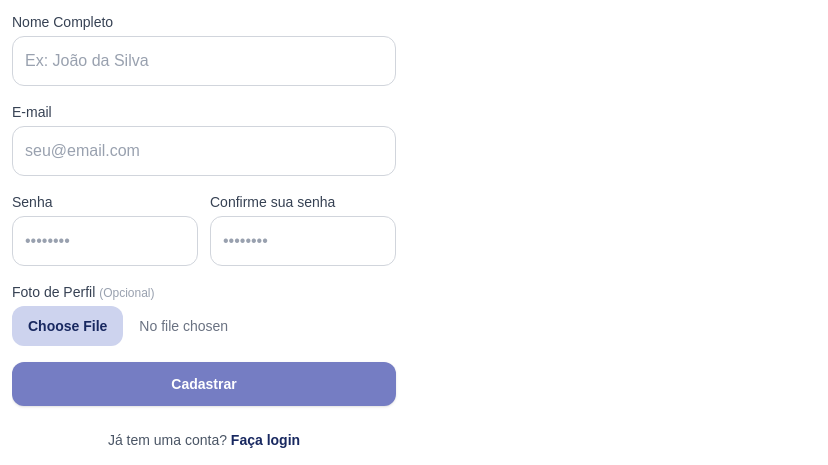
Test: [US01] RegisterAuth Integration › [QA] Deve reabilitar o formulário e permitir nova tentativa quando a API retornar erro de validação
The image size is (828, 465).
Type "Marcos" into the field labelled "Nome Completo" at (204, 61), box [12,36,396,86]
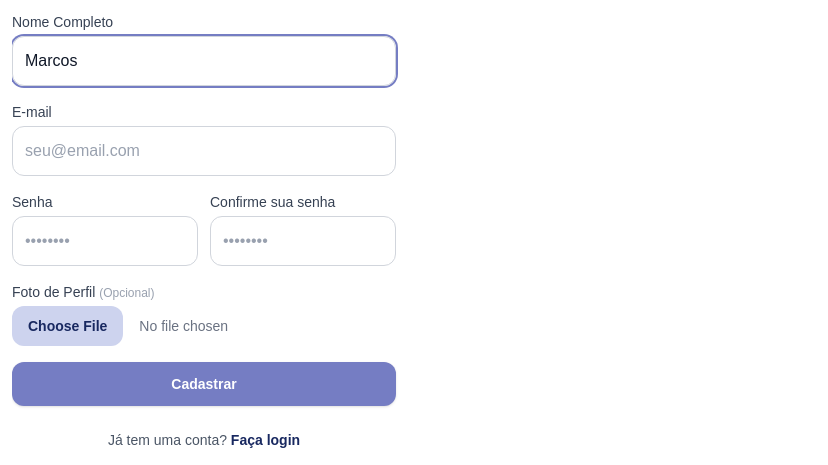
Type "duplicado@uefs.br" into the field labelled "E-mail" at (204, 151), box [12,126,396,176]
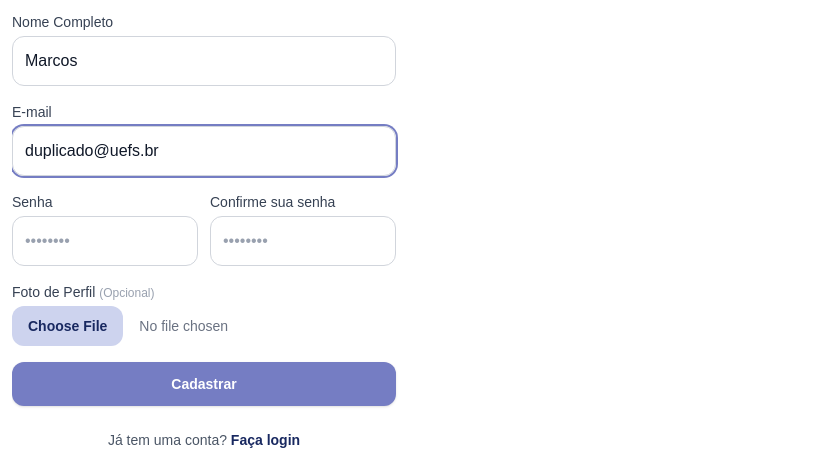
Type "Senha@123" into the password field labelled "Senha" at (105, 241), box [12,216,198,266]
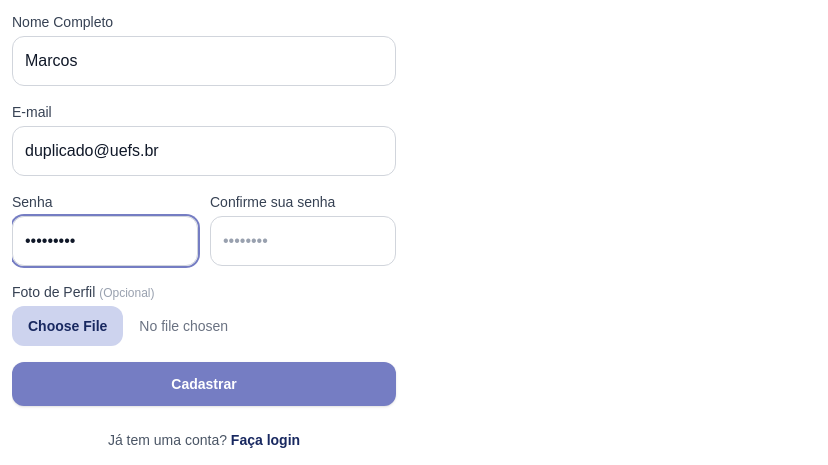
Type "Senha@123" into the password field labelled "Confirme sua senha" at (303, 241), box [210,216,396,266]
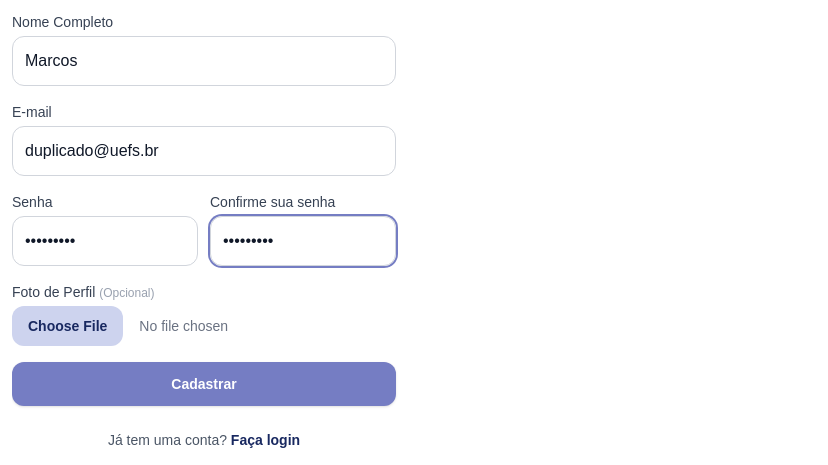
Click the button "Cadastrar" at (204, 384), box [12,362,396,406]
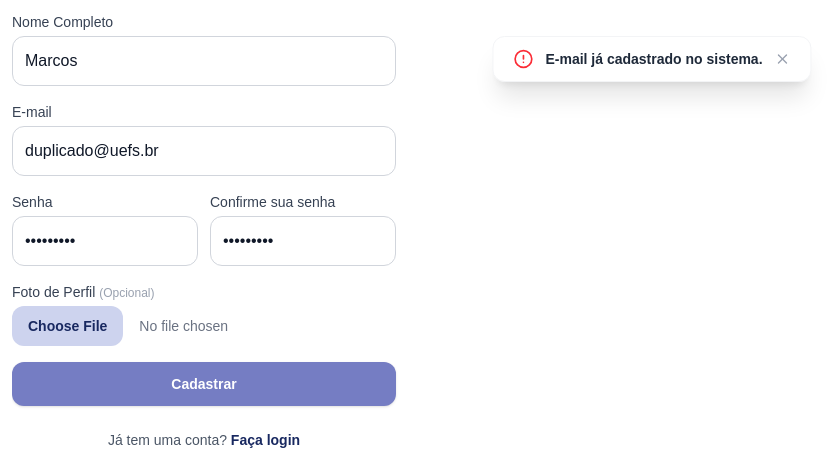
Check: the field labelled "E-mail" is enabled, box [12,126,396,176]
Check: the text "E-mail já cadastrado no sistema." is shown, box [546,49,763,69]
